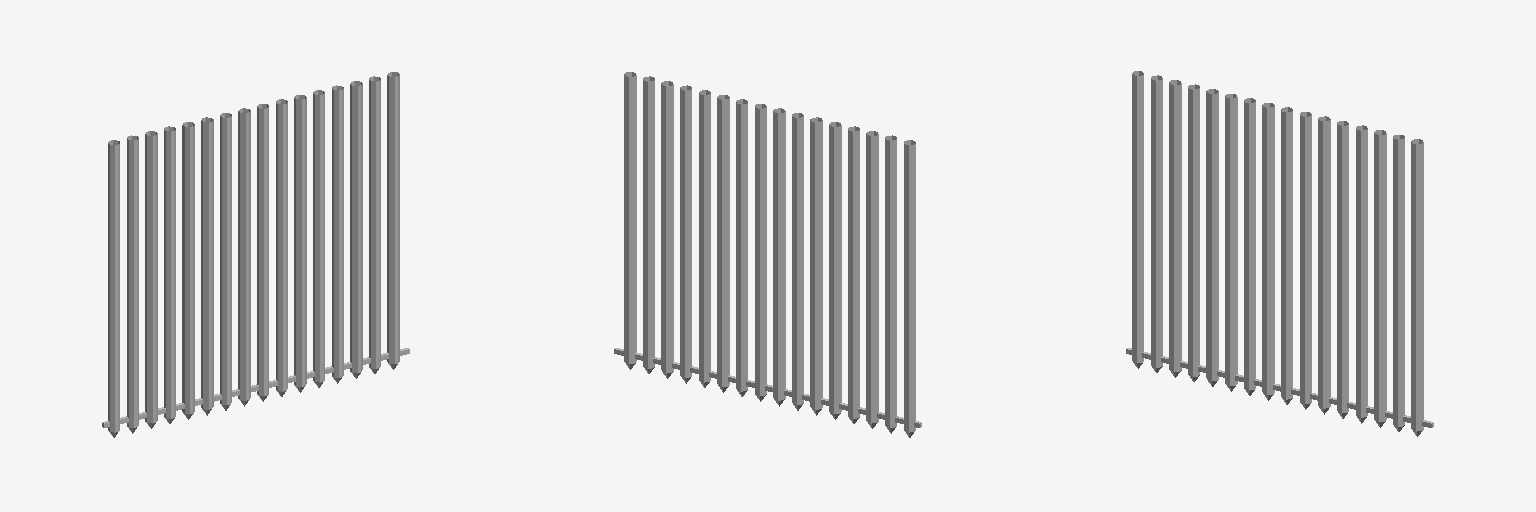
File: InteractiveDoor_FULL.obj
3 views of the same model, side by side, from view 1: azimuth 30°, elevation 25°; view 2: azimuth 150°, elevation 25°; view 3: azimuth 330°, elevation 25° (orthographic).
Parts seen in each view (by area): view 1: Closed_door; view 2: Closed_door; view 3: Closed_door.
Boxes of the visible parts, <box> form: Closed_door: <box>102,72,409,437</box>; Closed_door: <box>614,72,921,437</box>; Closed_door: <box>1126,71,1433,436</box>.
Size of the model in its own units: 3.56 by 3.29 by 0.1203.